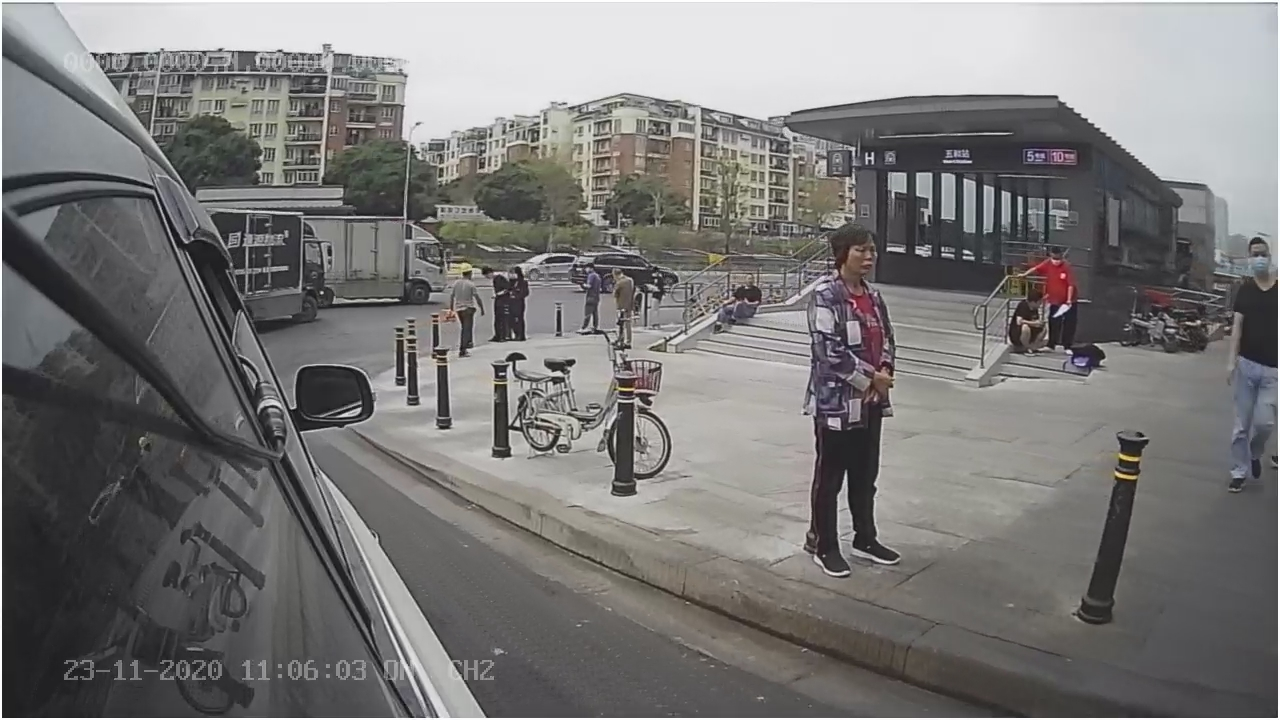person: (801, 211, 914, 582)
